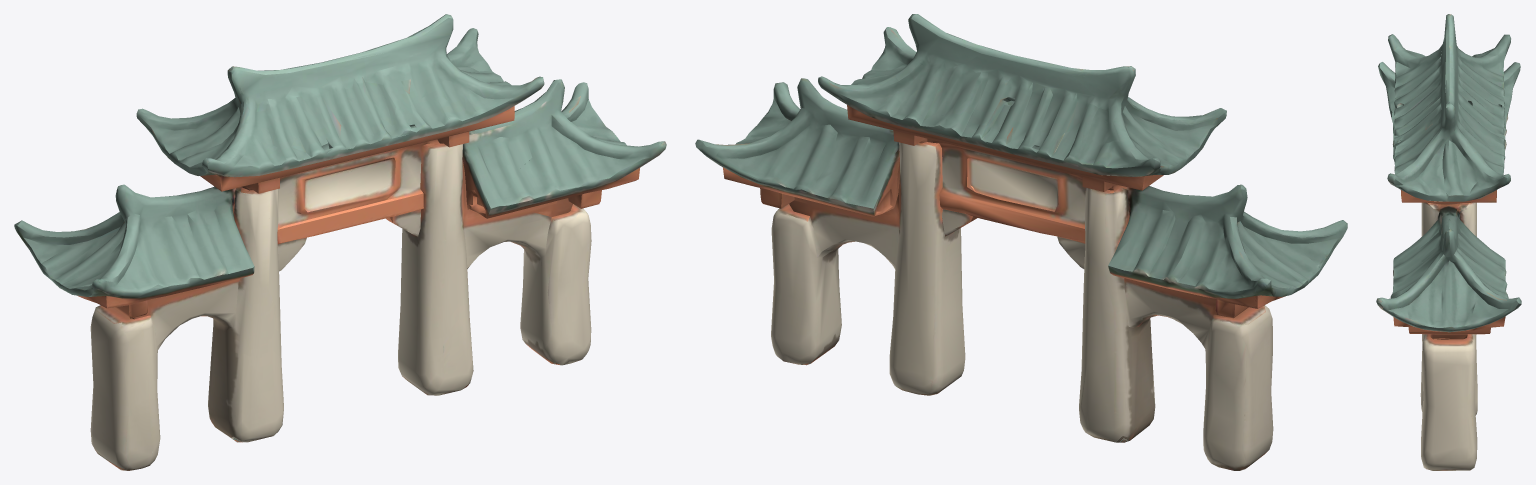
Rendered from dragon-gate.glb.
3 renders of one model, left to right at view 1: azimuth 30°, elevation 25°; view 2: azimuth 150°, elevation 25°; view 3: azimuth 270°, elevation 25°, orthographic. The views are drawn at different scales.
Parts seen in each view (by area): view 1: dragon-gate; view 2: dragon-gate; view 3: dragon-gate.
Boxes of the visible parts, box(x1,y1,x2,y2) form: dragon-gate: box(14, 14, 666, 470); dragon-gate: box(695, 14, 1347, 470); dragon-gate: box(1376, 14, 1521, 470).
Size of the model in its own units: 9.6 by 5.85 by 2.45.
Materials: 1 (1 with a texture image).
